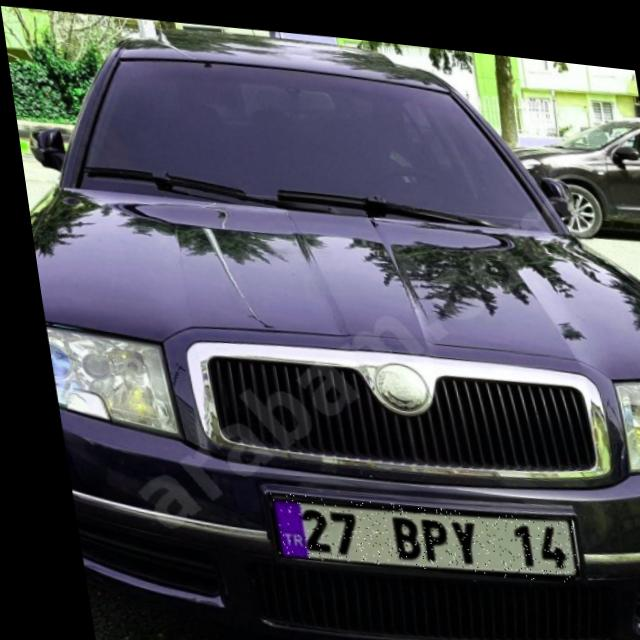license_plate: (253, 482, 566, 577)
